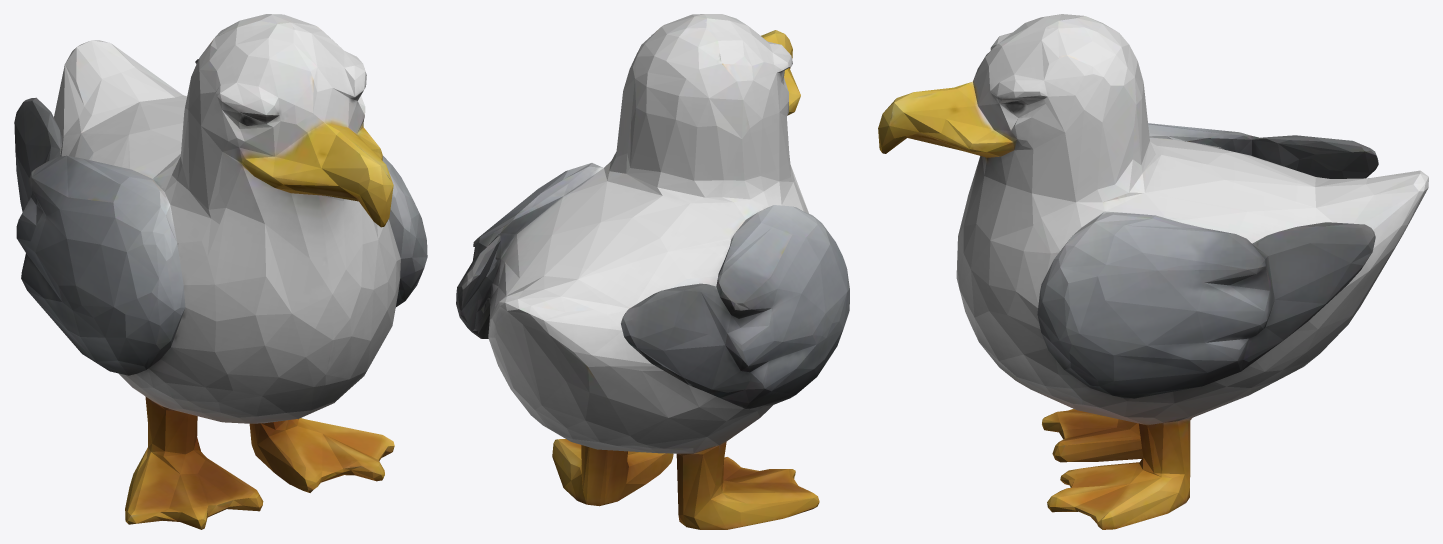
File: gull.glb
3 renders of one model, left to right at view 1: azimuth 30°, elevation 25°; view 2: azimuth 150°, elevation 25°; view 3: azimuth 270°, elevation 25°, orthographic. The views are drawn at different scales.
Parts seen in each view (by area): view 1: geometry_0; view 2: geometry_0; view 3: geometry_0.
Part boxes in pixels (left/top/right/bottom): geometry_0: left=14, top=14, right=427, bottom=529; geometry_0: left=456, top=14, right=849, bottom=529; geometry_0: left=878, top=14, right=1428, bottom=529.
Size of the model in its own units: 0.6466 by 0.9014 by 0.9971.
Materials: 1 (1 with a texture image).
